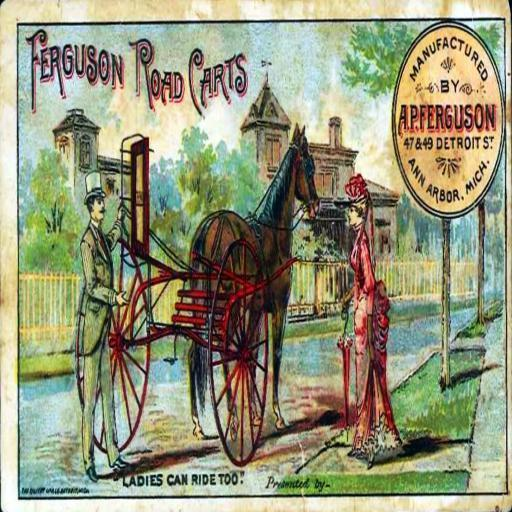horse: (186, 121, 322, 441)
